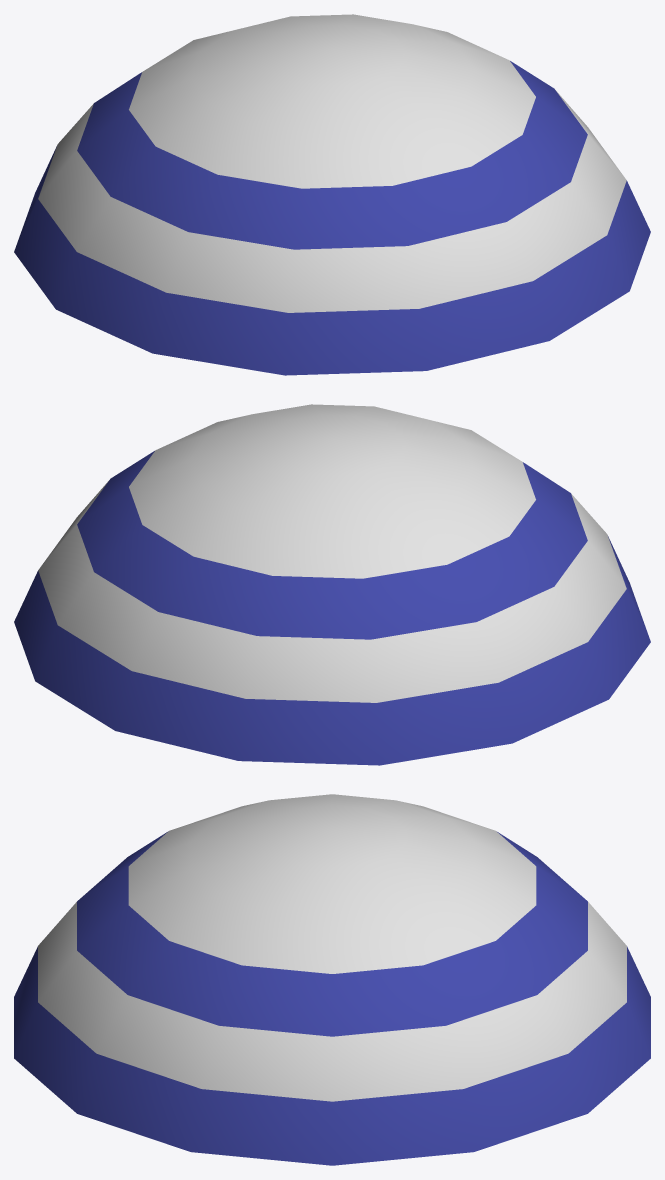
File: SM_Hat_Kippah.fbx
3 renders of one model, top to bottom at view 1: azimuth 30°, elevation 25°; view 2: azimuth 150°, elevation 25°; view 3: azimuth 270°, elevation 25°, orthographic. The views are drawn at different scales.
Visible parts, largest first — view 1: pSphere1; view 2: pSphere1; view 3: pSphere1.
Boxes of the visible parts, x1,y1,x2,y2 form: pSphere1: (14, 14, 650, 375); pSphere1: (14, 404, 650, 765); pSphere1: (14, 794, 650, 1165).
Size of the model in its own units: 9.46 by 3.15 by 9.22.
